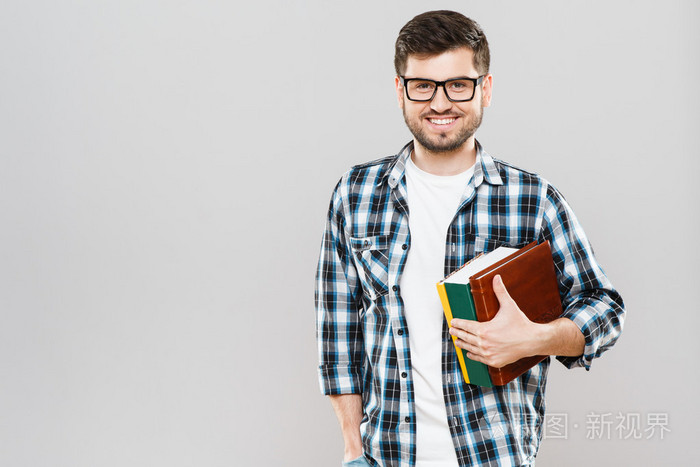no-phone: (435, 234, 558, 371)
